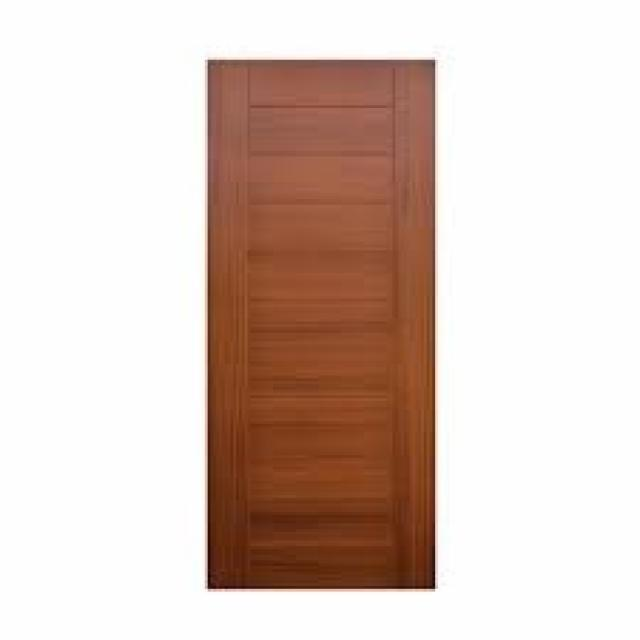door: (206, 59, 437, 590)
